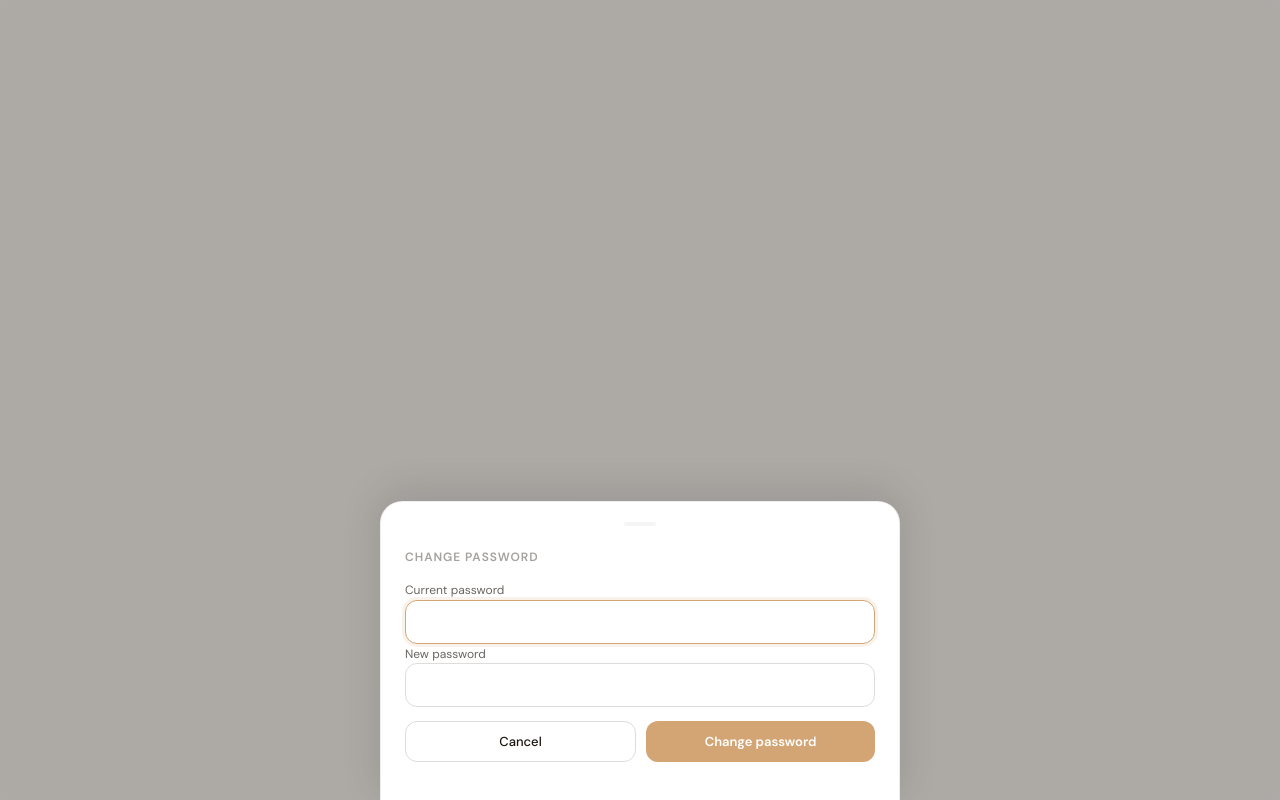
Scenario: ChangePasswordModal › shows the server error when the current password is wrong, and does not close
Type "wrongpassword" into the password field labelled "Current password".
click(640, 622); type("wrongpassword")  # box x1=405 y1=600 x2=875 y2=644
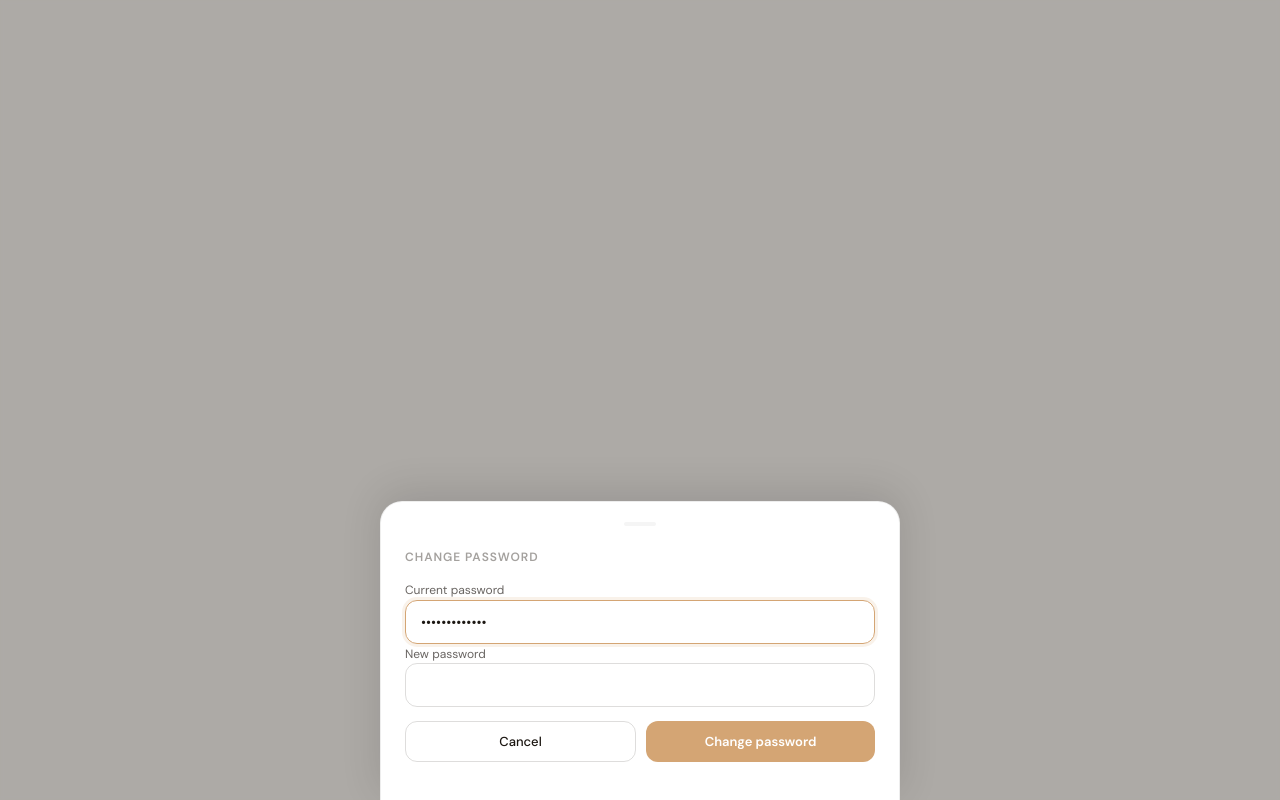
Type "newpassword123" into the password field labelled "New password".
click(640, 685); type("newpassword123")  # box x1=405 y1=663 x2=875 y2=707
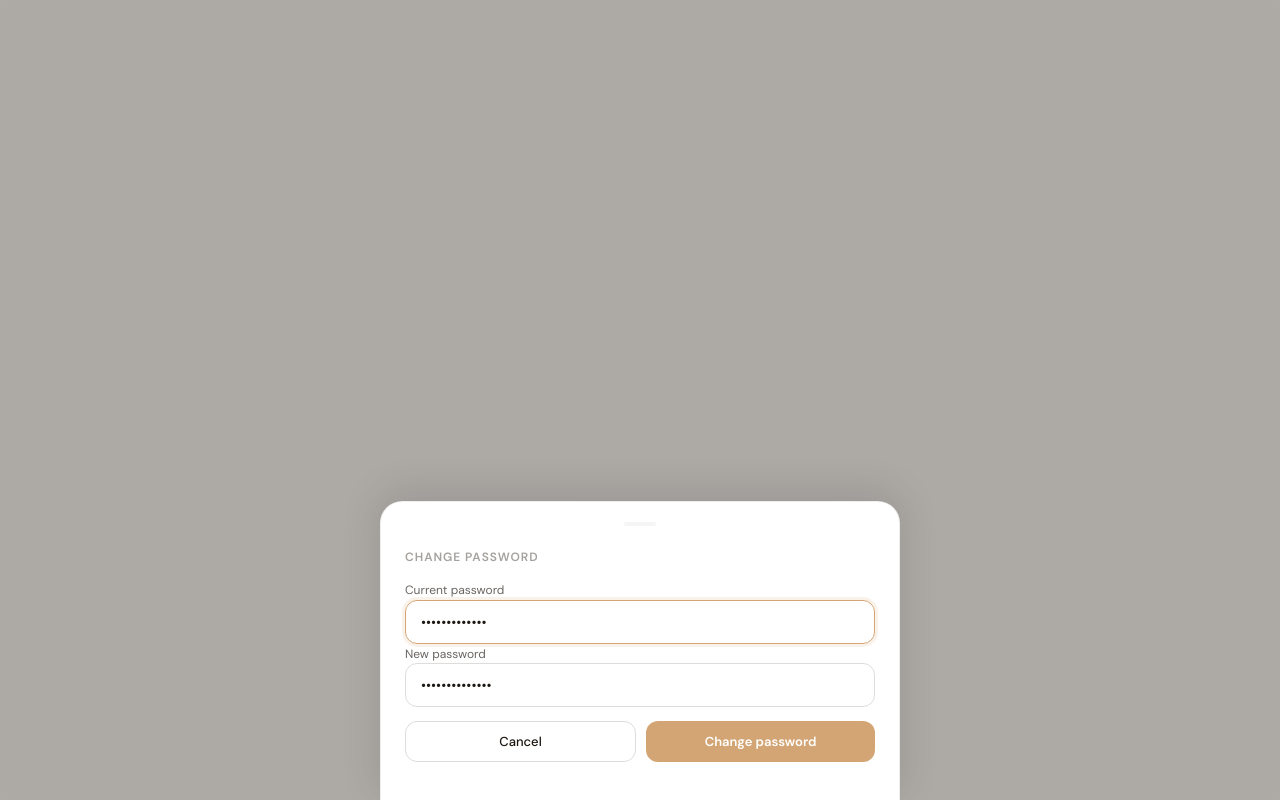
Click the button "Change password".
click(760, 742)  # box x1=646 y1=721 x2=875 y2=762
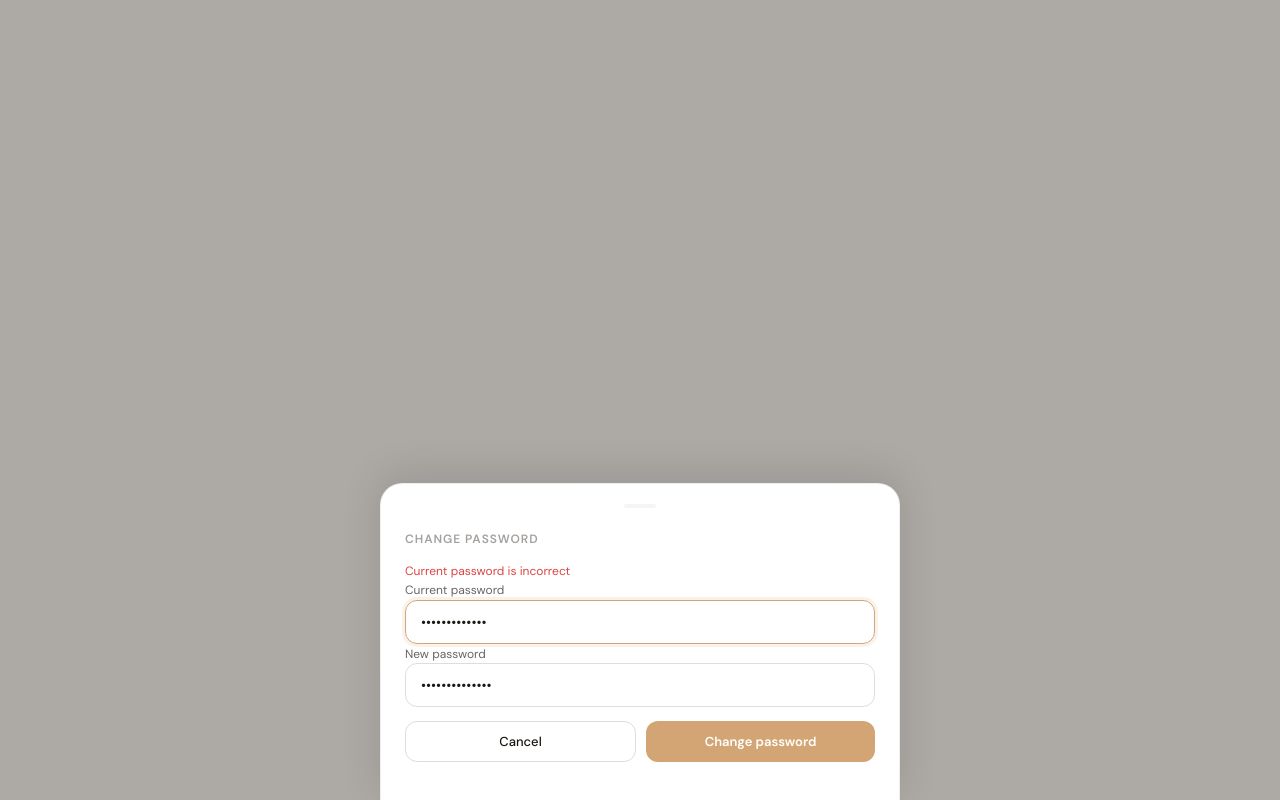
expect the text "Current password is incorrect" is shown: met, box x1=405 y1=563 x2=570 y2=579
